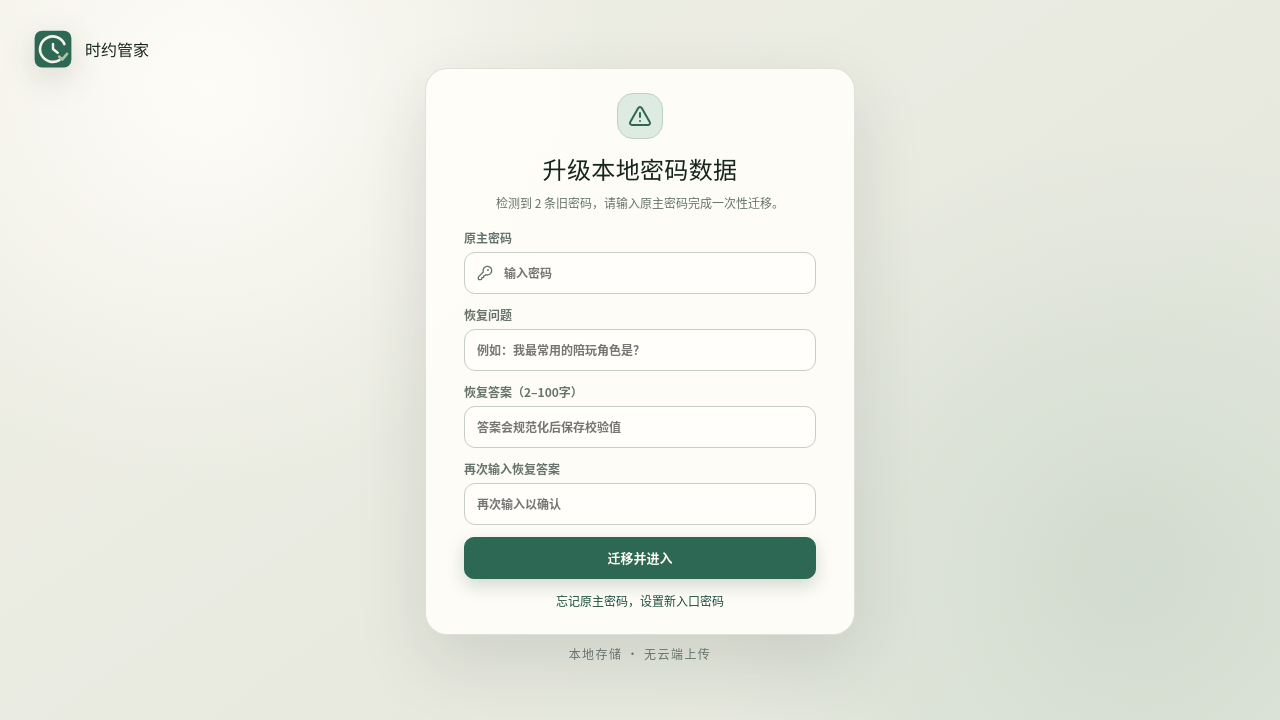
AppAccessGate › can return from reset to a pending legacy migration
Click the button with class "access-gate__link" at (640, 600), box [464,591,816,610]
(page scrolled)
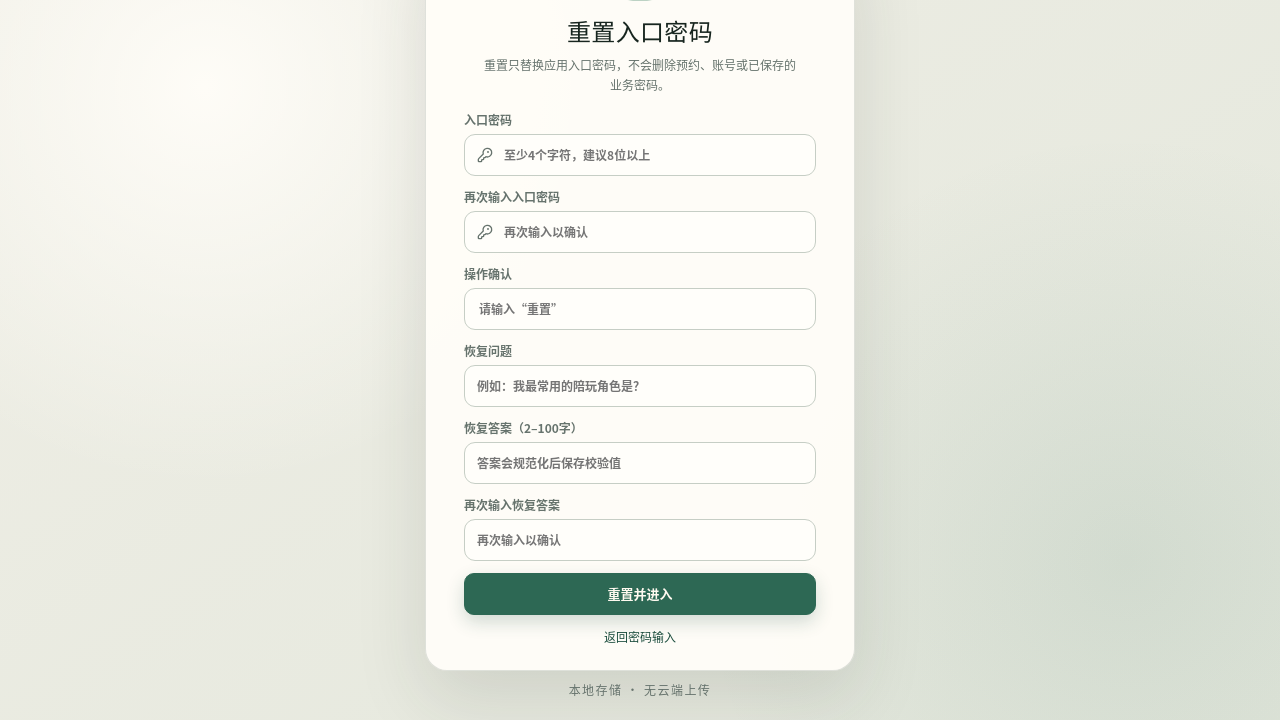
Check: the text "返回密码输入" is shown
Click the button with class "access-gate__link" at (640, 636), box [464,627,816,646]
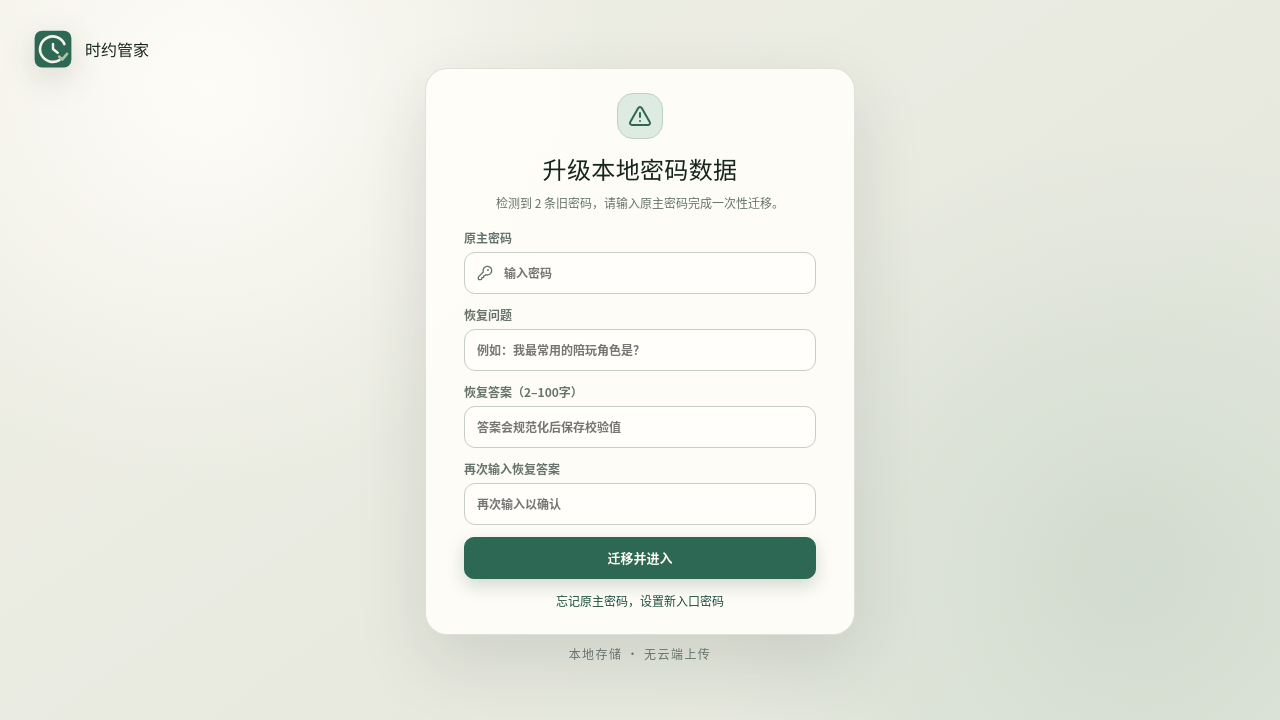
Check: the text "升级本地密码数据" is shown, box [542,151,737,186]
